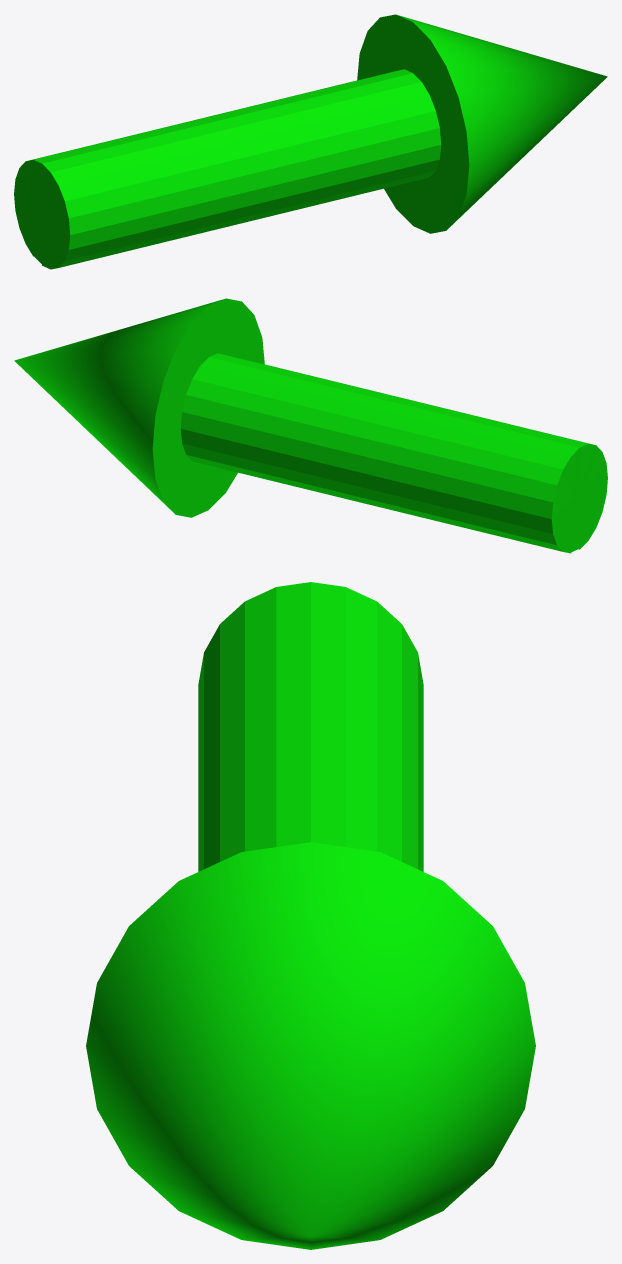
Rendered from arrowGreen.fbx.
3 renders of one model, top to bottom at view 1: azimuth 30°, elevation 25°; view 2: azimuth 150°, elevation 25°; view 3: azimuth 270°, elevation 25°, orthographic. The views are drawn at different scales.
Visible parts, largest first — view 1: pCone1; view 2: pCone1; view 3: pCone1.
Part boxes in pixels (x1,y1,x2,y2): pCone1: (14,14,607,269); pCone1: (14,298,607,553); pCone1: (86,582,535,1249).
Size of the model in its own units: 5.81 by 2 by 2.
